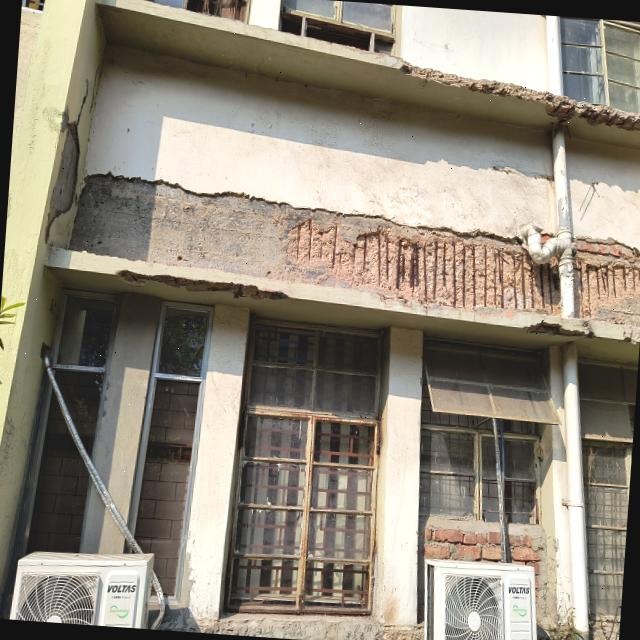peeling: (45, 121, 79, 241)
spalling: (69, 174, 560, 316), (399, 62, 640, 134), (574, 240, 640, 326), (115, 269, 289, 299)
